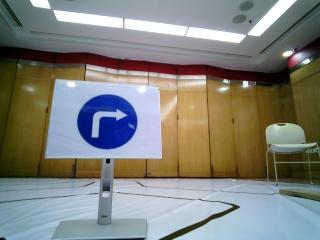right: (62, 84, 142, 153)
